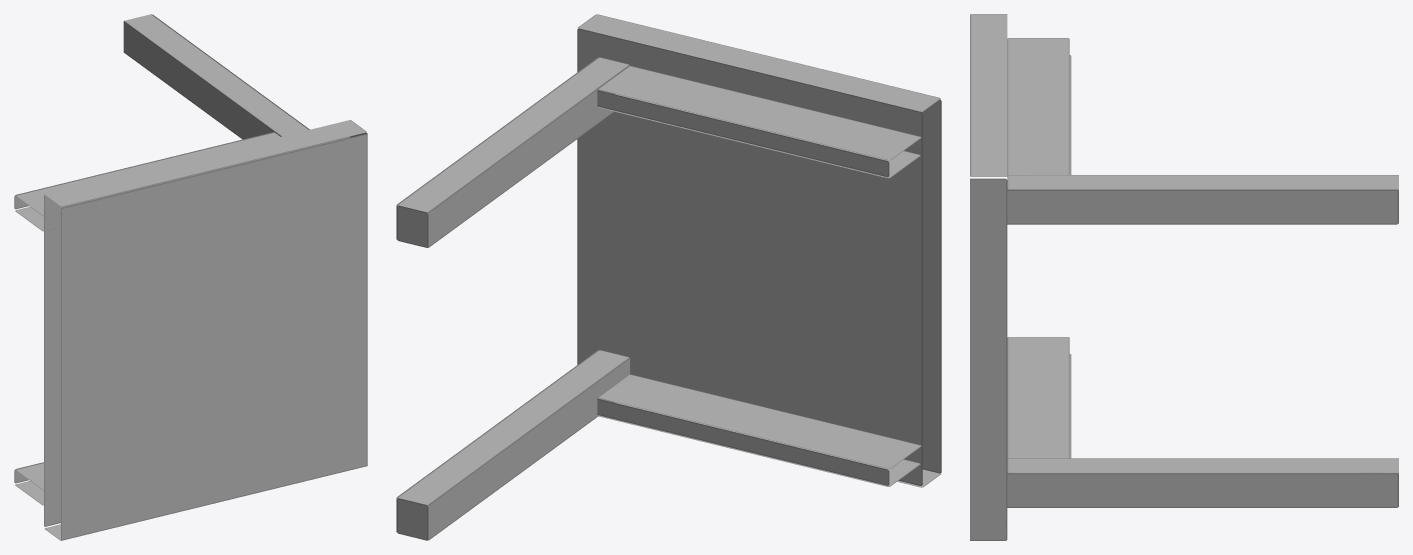
The model's file is pz_table_tables_high_01_large_white_v2_1_0.obj.
The picture shows the model from 3 angles, left to right: view 1: azimuth 30°, elevation 25°; view 2: azimuth 150°, elevation 25°; view 3: azimuth 270°, elevation 25°; orthographic projection. The views are drawn at different scales.
Bounding box in the file's own units: 0.7812 × 0.8125 × 0.8675.
Materials: 1 (1 with a texture image).
